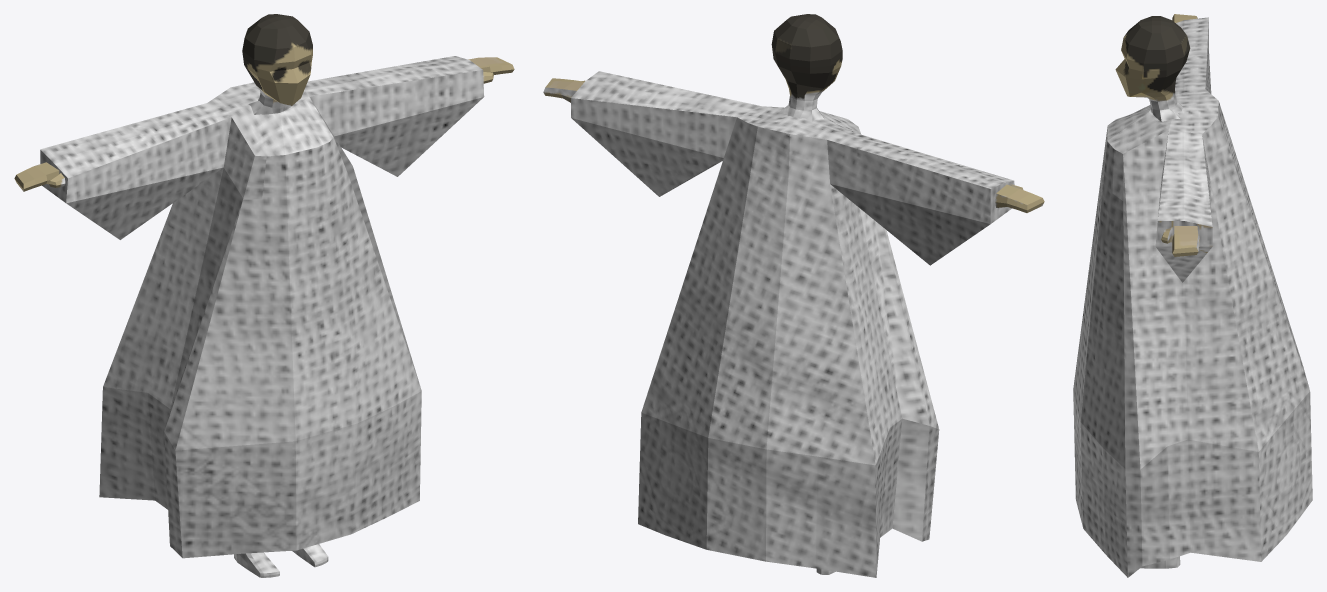
The model's file is alma.obj.
The picture shows the model from 3 angles, left to right: view 1: azimuth 30°, elevation 25°; view 2: azimuth 150°, elevation 25°; view 3: azimuth 270°, elevation 25°; orthographic projection.
Parts seen in each view (by area): view 1: Alma; view 2: Alma; view 3: Alma.
Boxes of the visible parts, x1,y1,x2,y2 form: Alma: (14,14,514,577); Alma: (543,14,1044,577); Alma: (1073,14,1312,577).
Size of the model in its own units: 0.6241 by 0.6548 by 0.2677.
1 material, 1 textured.
